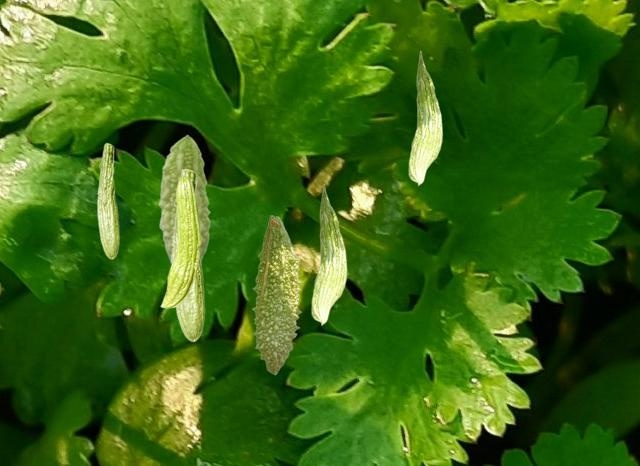ampalaya: (251, 214, 302, 375), (158, 134, 211, 263), (170, 168, 205, 342), (160, 168, 201, 309), (311, 183, 347, 326), (408, 50, 443, 186), (96, 142, 120, 259)
